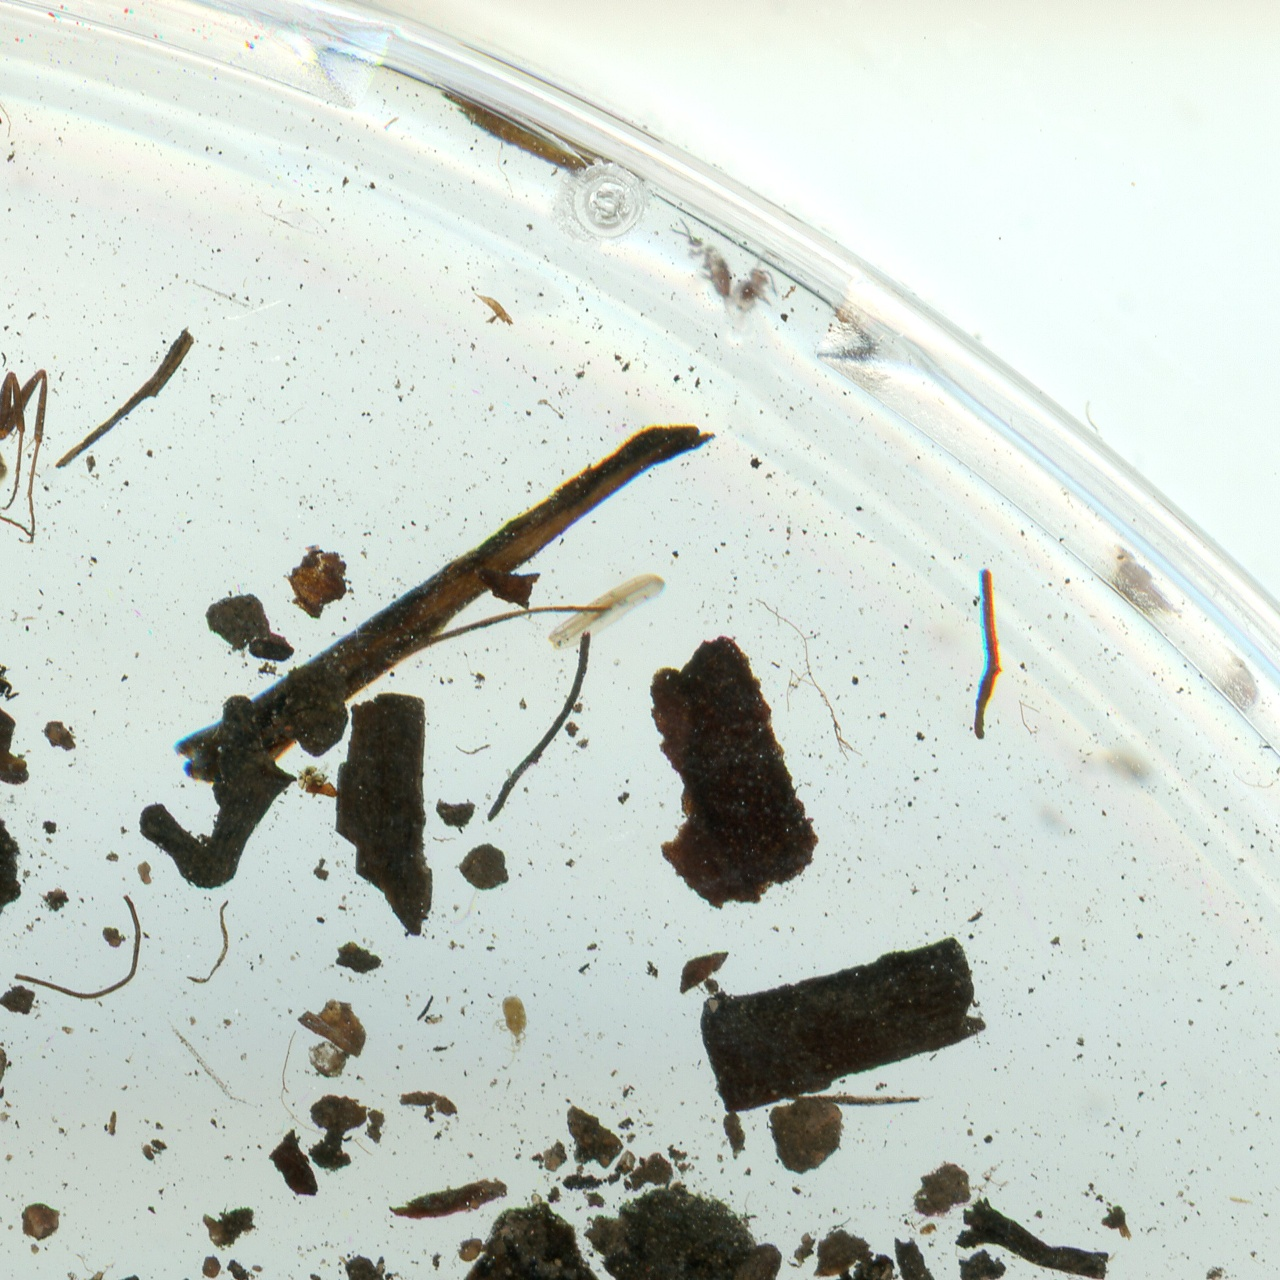arthropod: (0, 366, 54, 563), (666, 215, 738, 325), (728, 253, 782, 328), (491, 989, 531, 1069)
